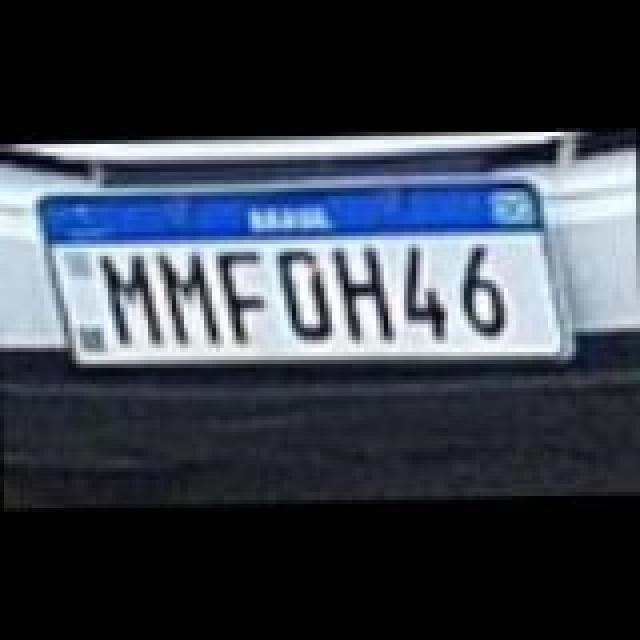4: (398, 244, 450, 340)
6: (458, 244, 510, 340)
D: (280, 246, 336, 342)
F: (218, 248, 278, 344)
H: (338, 246, 398, 342)
M: (102, 252, 170, 348), (158, 248, 226, 344)
